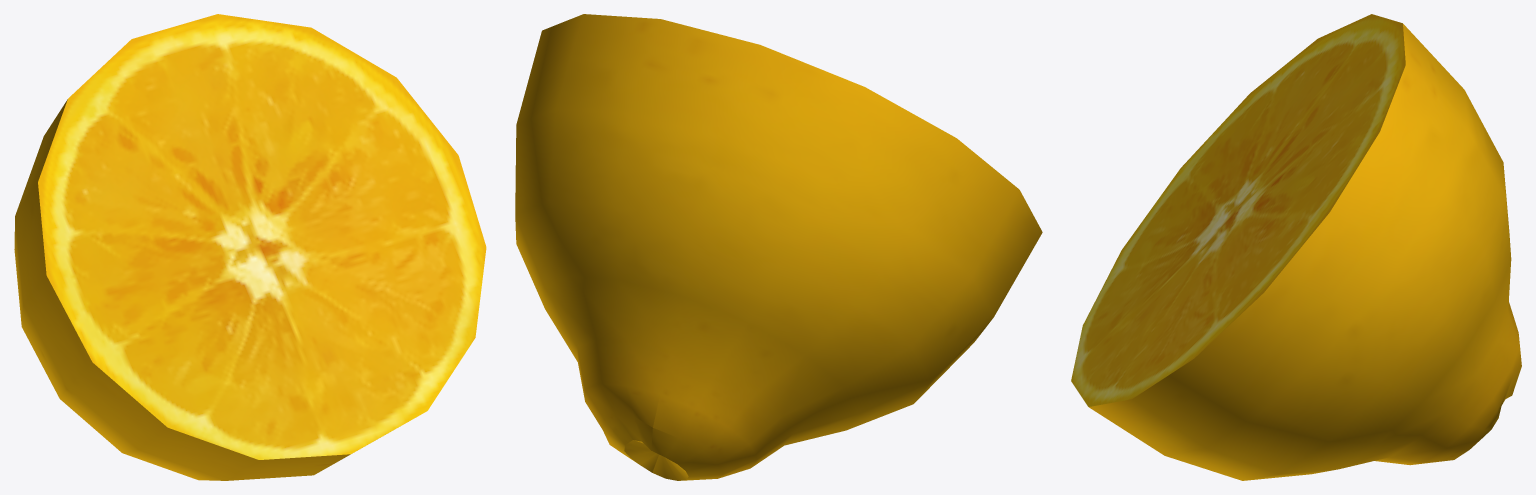
The model's file is LemonHalfEnd.fbx.
3 views of the same model, side by side, from view 1: azimuth 30°, elevation 25°; view 2: azimuth 150°, elevation 25°; view 3: azimuth 270°, elevation 25° (orthographic). The views are drawn at different scales.
Parts seen in each view (by area): view 1: Default_Layer; view 2: Default_Layer; view 3: Default_Layer.
Part boxes in pixels (<box>): Default_Layer: <box>14,14,486,480</box>; Default_Layer: <box>515,14,1042,480</box>; Default_Layer: <box>1071,14,1521,480</box>.
Size of the model in its own units: 132 by 118 by 118.
